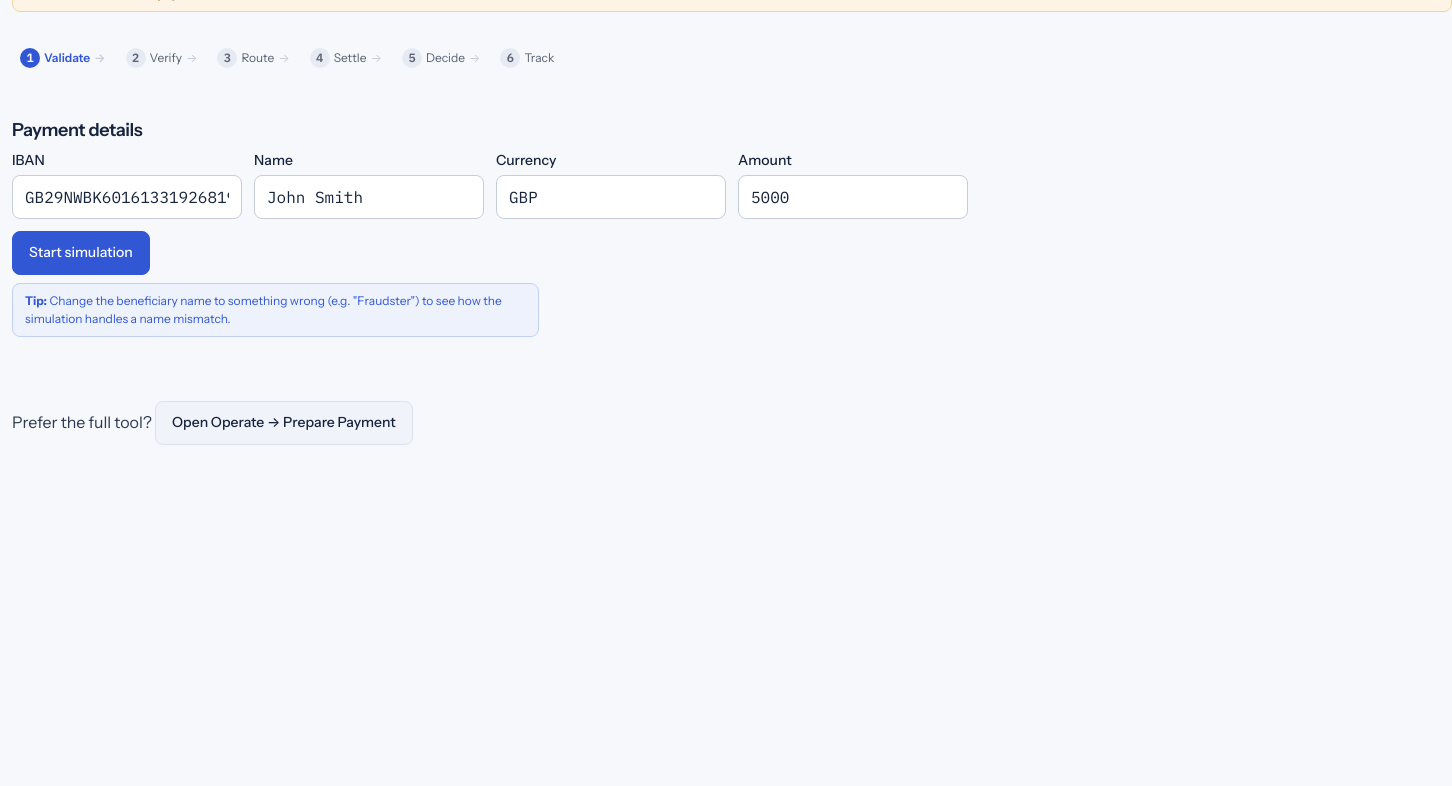
CapstoneContent › when the IBAN is valid but no BIC can be derived › continues with the BIC the learner enters and never substitutes another bank
The image size is (1452, 786).
Replace the text in the field labelled "IBAN" with "GB82WEST12345698765432" at (127, 197), box [12,175,242,219]
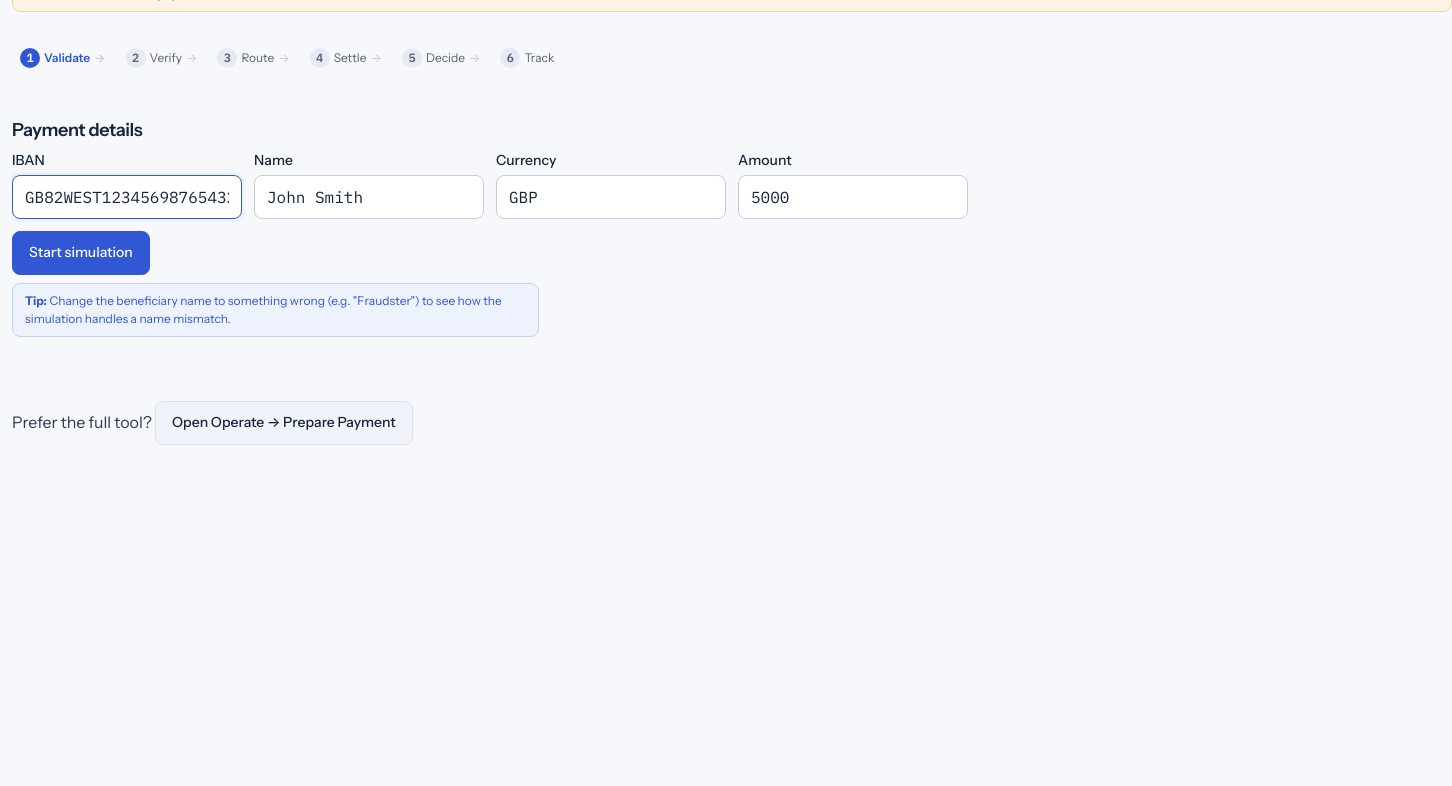
Click the button "Start simulation" at (81, 253), box [12,231,150,275]
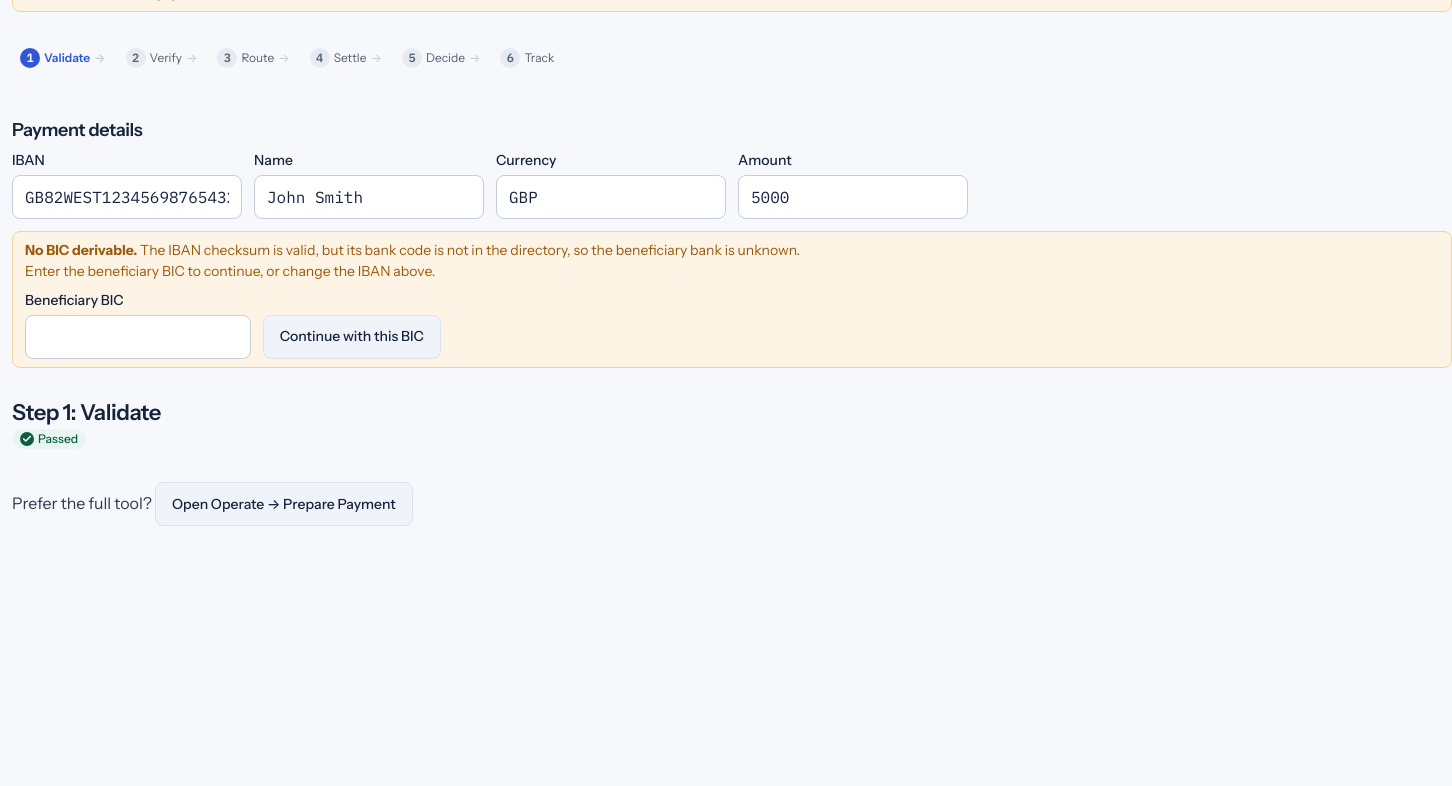
Type "barcgb22" into the field labelled "Beneficiary BIC" at (138, 337), box [25,315,251,359]
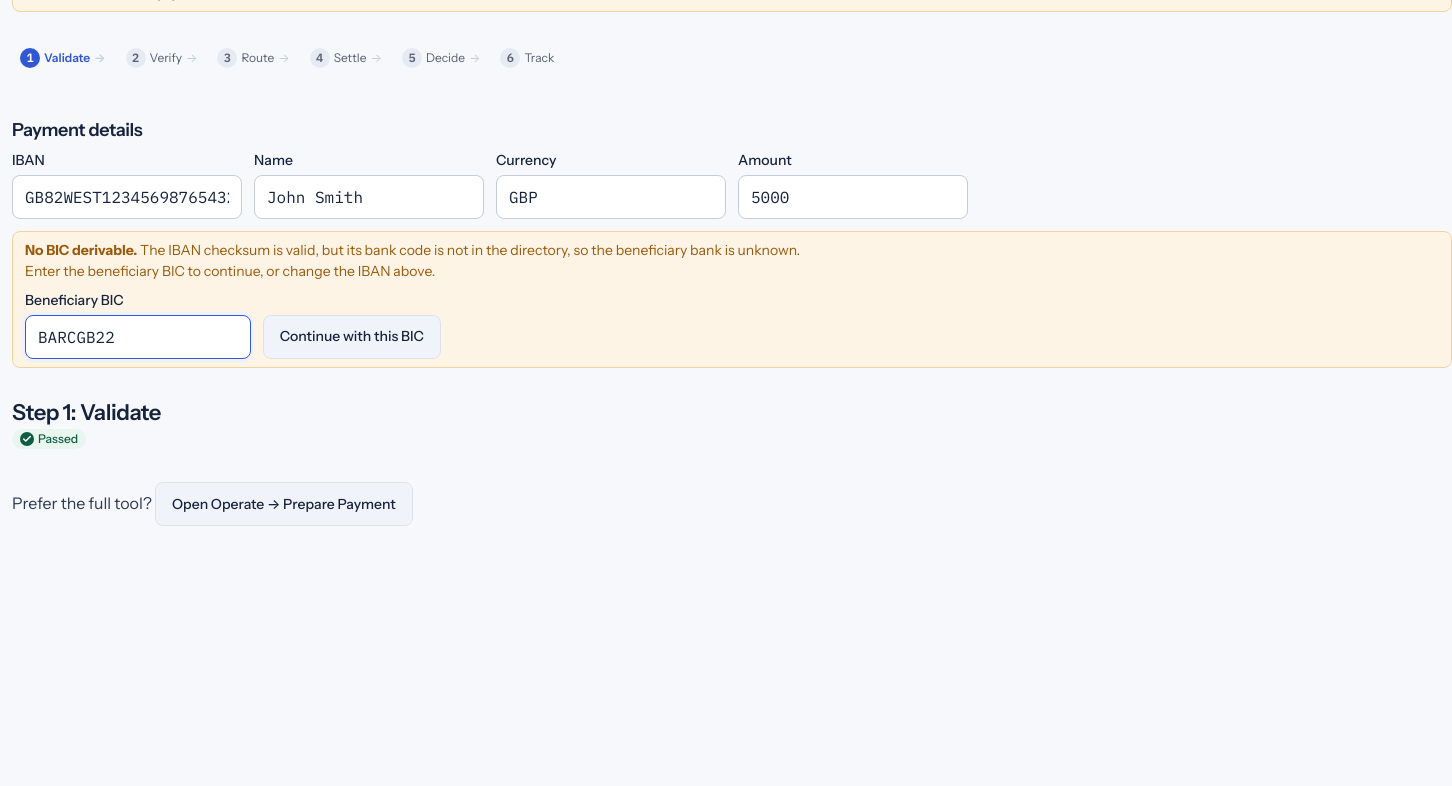
Click the button "Continue with this BIC" at (352, 337), box [263,315,441,359]
(page scrolled)
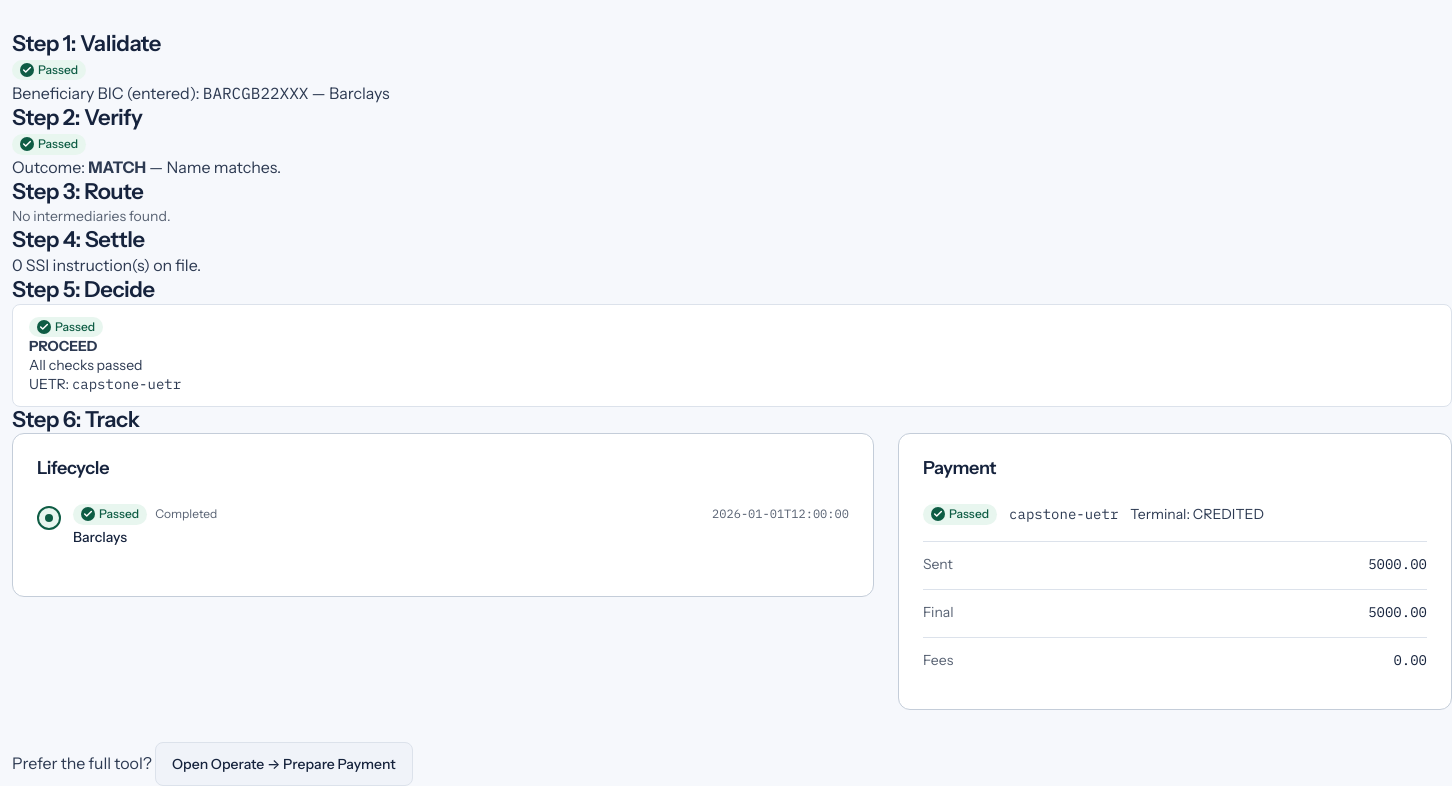
Expected: the text "BARCGB22XXX" is shown, [203,83,308,103]
Expected: the text "Barclays" is shown, [73,528,127,546]
